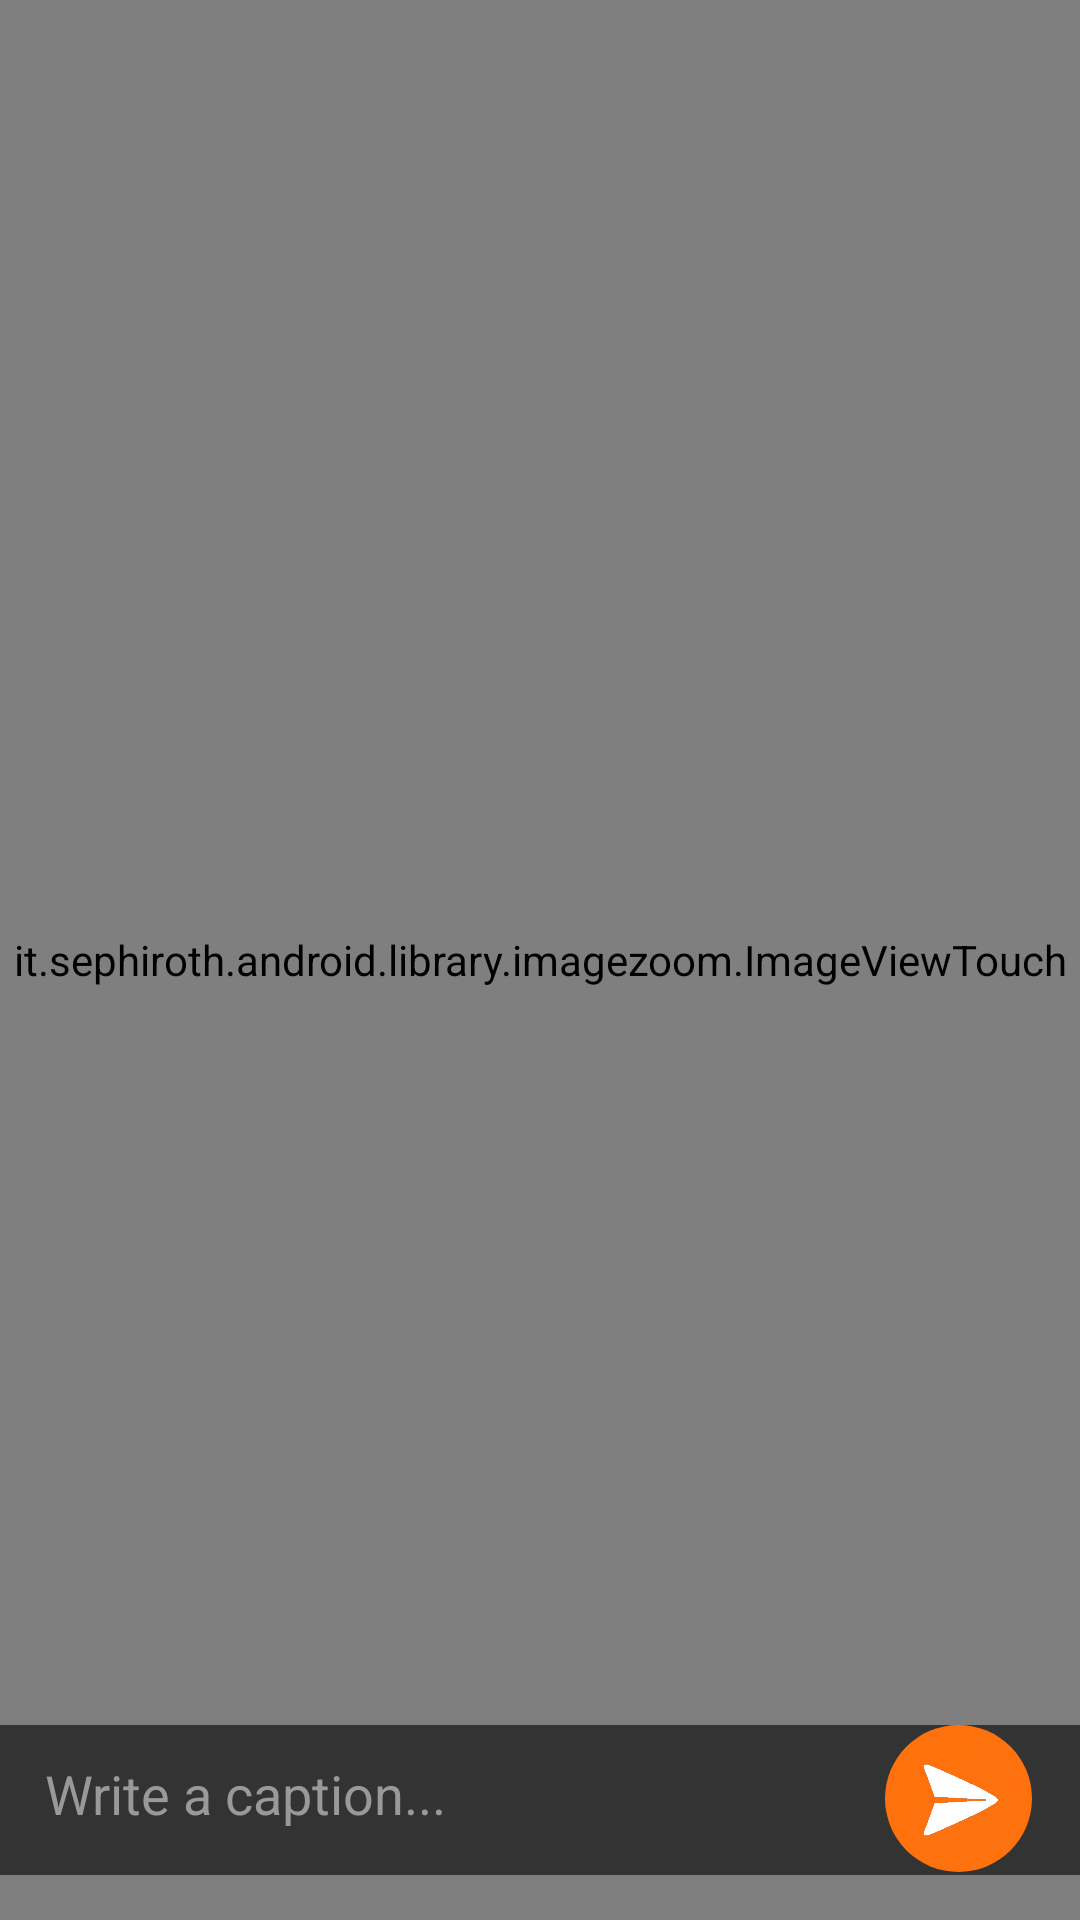

Where to tap for icons on this 1080×1920 app screen, as (x=x, y=y):
send: (x=958, y=1798)
